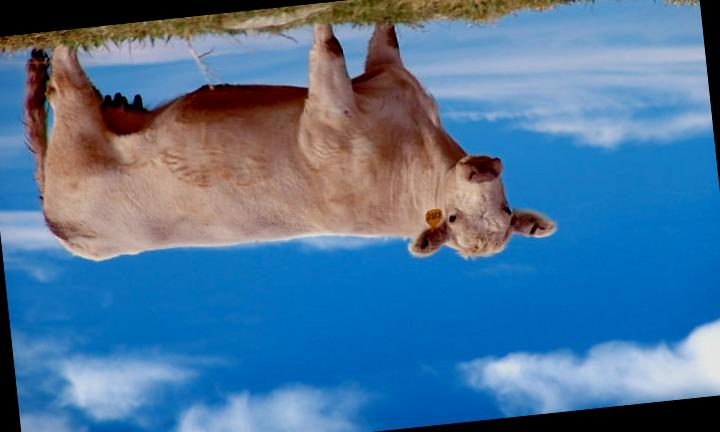Charolais: (25, 26, 556, 260)
